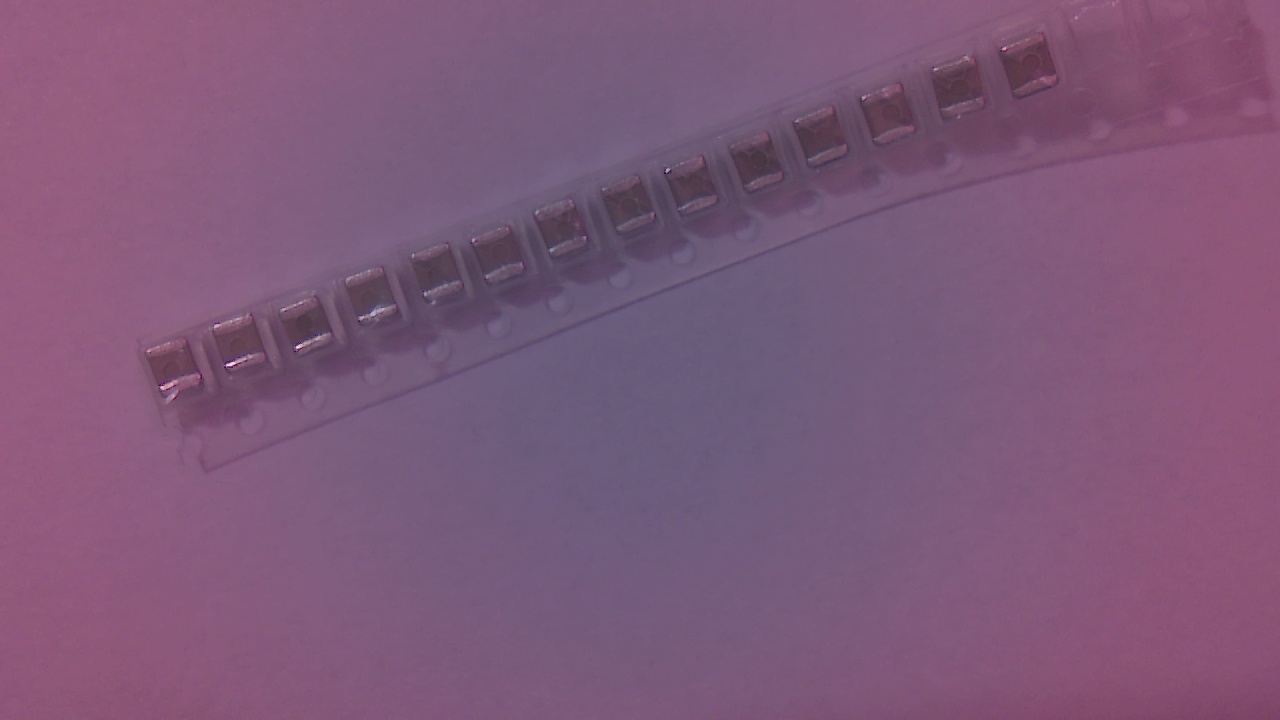Condensator: (1004, 37, 1064, 103), (933, 59, 993, 125), (862, 87, 924, 150), (280, 299, 340, 363), (794, 109, 854, 172), (730, 139, 792, 198), (537, 200, 595, 263), (213, 319, 272, 380), (148, 342, 208, 401), (474, 227, 530, 290), (666, 162, 728, 218), (349, 269, 403, 333), (605, 178, 660, 240), (412, 248, 469, 307)
